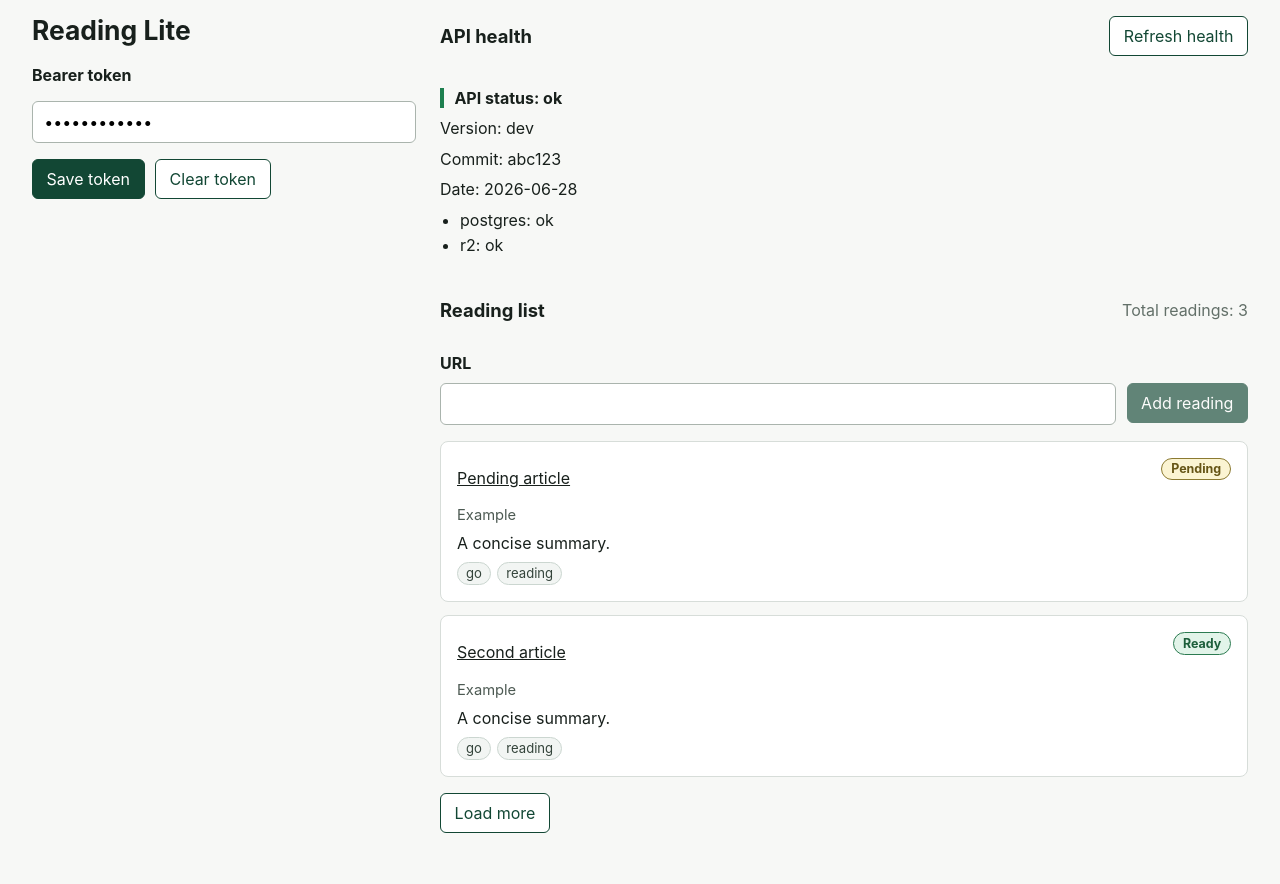
Test: App › polls loaded pages by following fresh cursors so shifted readings stay visible
Expected: the button "Pending article" is shown, [457,458,570,498]
Step 1. Click the button "Load more" → [495, 812], box [440,792,550,832]
Wait 4000 ms
(page scrolled)
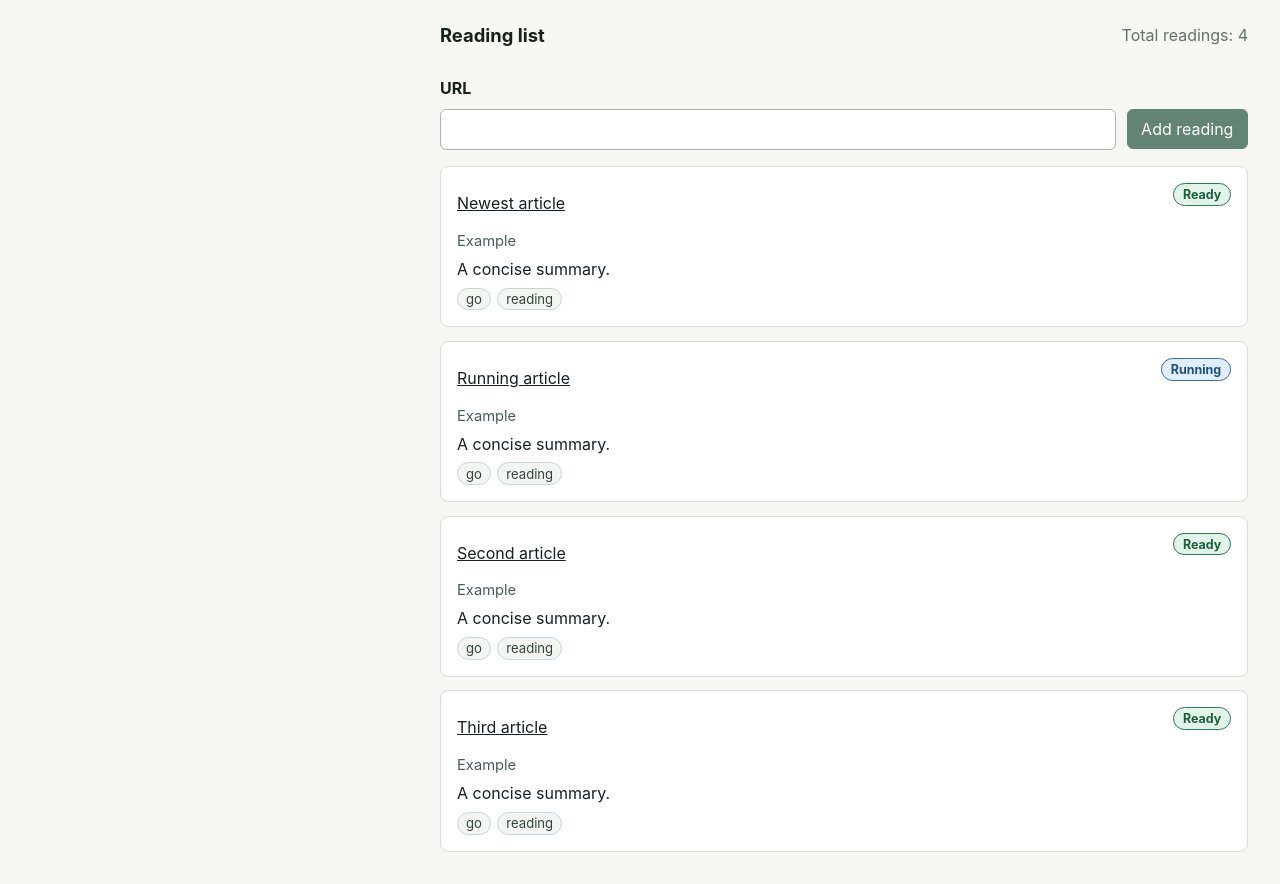
Now the button "Newest article" is shown, box [457,183,565,223]
Now the button "Running article" is shown, box [457,358,570,398]
Now the button "Third article" is shown, box [457,707,547,747]
